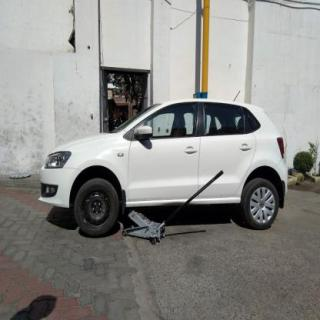Normal_vehicle: (39, 99, 287, 235)
